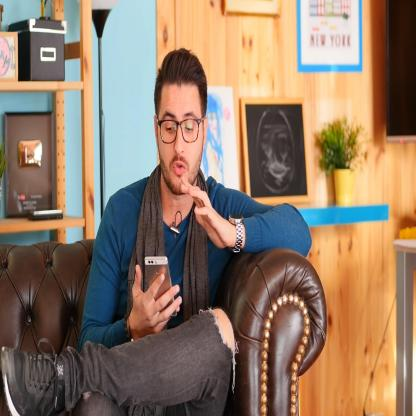smartphone: (144, 255, 177, 318)
